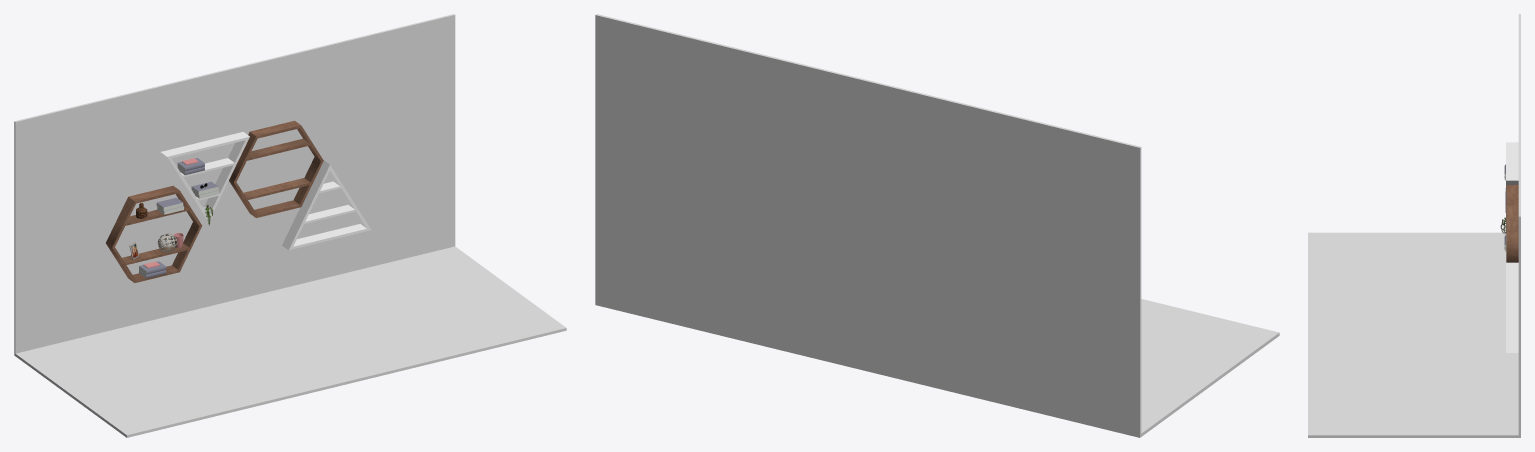
3 views of the same model, side by side, from view 1: azimuth 30°, elevation 25°; view 2: azimuth 150°, elevation 25°; view 3: azimuth 270°, elevation 25° (orthographic). The views are drawn at different scales.
Visible parts, largest first — view 1: Box001, decorated_shelf, empty_shelf, triangluar_shelf, empty_triangluar; view 2: Box001; view 3: Box001, empty_triangluar, empty_shelf, triangluar_shelf.
Boxes of the visible parts, box(x1,y1,x2,y2) form: Box001: box(14, 14, 566, 437); decorated_shelf: box(106, 185, 202, 282); empty_shelf: box(229, 120, 323, 217); triangluar_shelf: box(160, 131, 249, 221); empty_triangluar: box(282, 160, 371, 250); Box001: box(595, 14, 1279, 437); Box001: box(1308, 14, 1520, 437); empty_triangluar: box(1506, 262, 1518, 352); empty_shelf: box(1506, 185, 1518, 262); triangluar_shelf: box(1504, 142, 1518, 232).
Bounding box in the file's own units: 3.39 × 1.73 × 1.51.
Materials: 6 (6 with a texture image).
